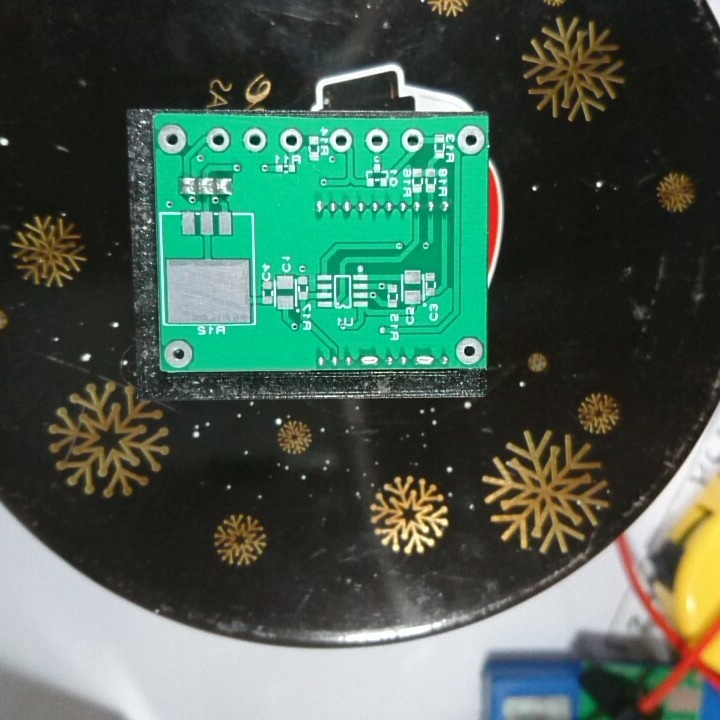F: (162, 337, 197, 371), (155, 122, 188, 157), (455, 123, 486, 156), (452, 334, 483, 366), (363, 126, 392, 155), (239, 126, 268, 155), (204, 126, 234, 154), (327, 126, 354, 156), (276, 126, 305, 153), (400, 126, 426, 154)
P: (357, 351, 382, 369), (414, 351, 437, 369)
